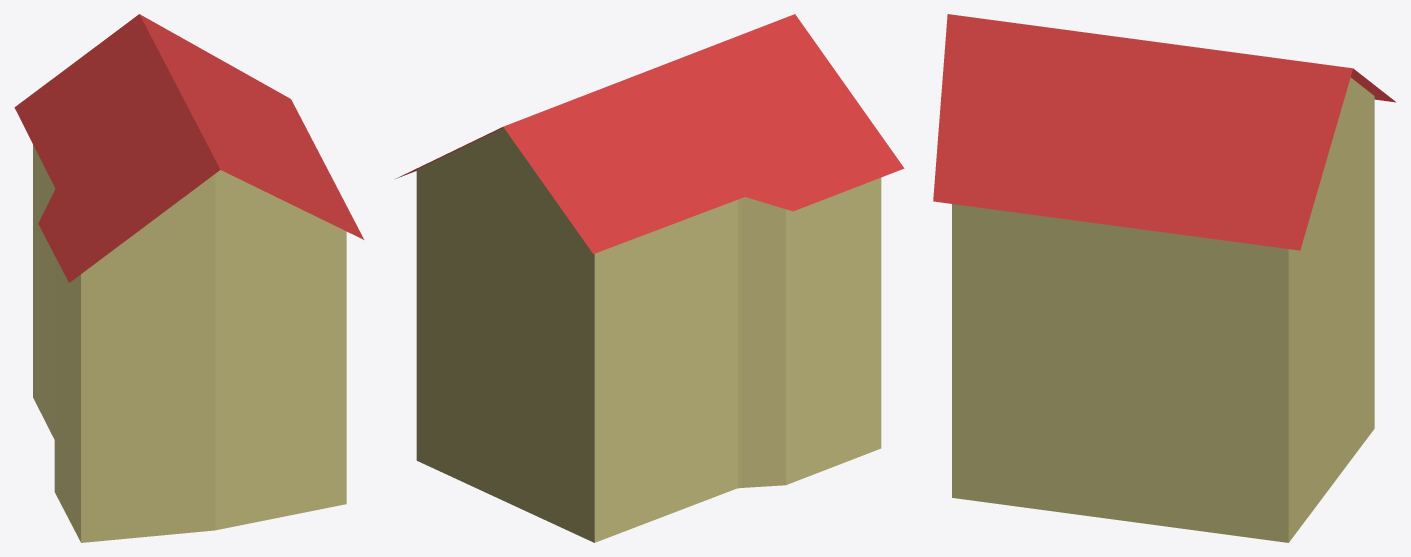
The picture shows the model from 3 angles, left to right: view 1: azimuth 30°, elevation 25°; view 2: azimuth 150°, elevation 25°; view 3: azimuth 270°, elevation 25°; orthographic projection. The views are drawn at different scales.
Size of the model in its own units: 13.05 by 13.1 by 12.89.
